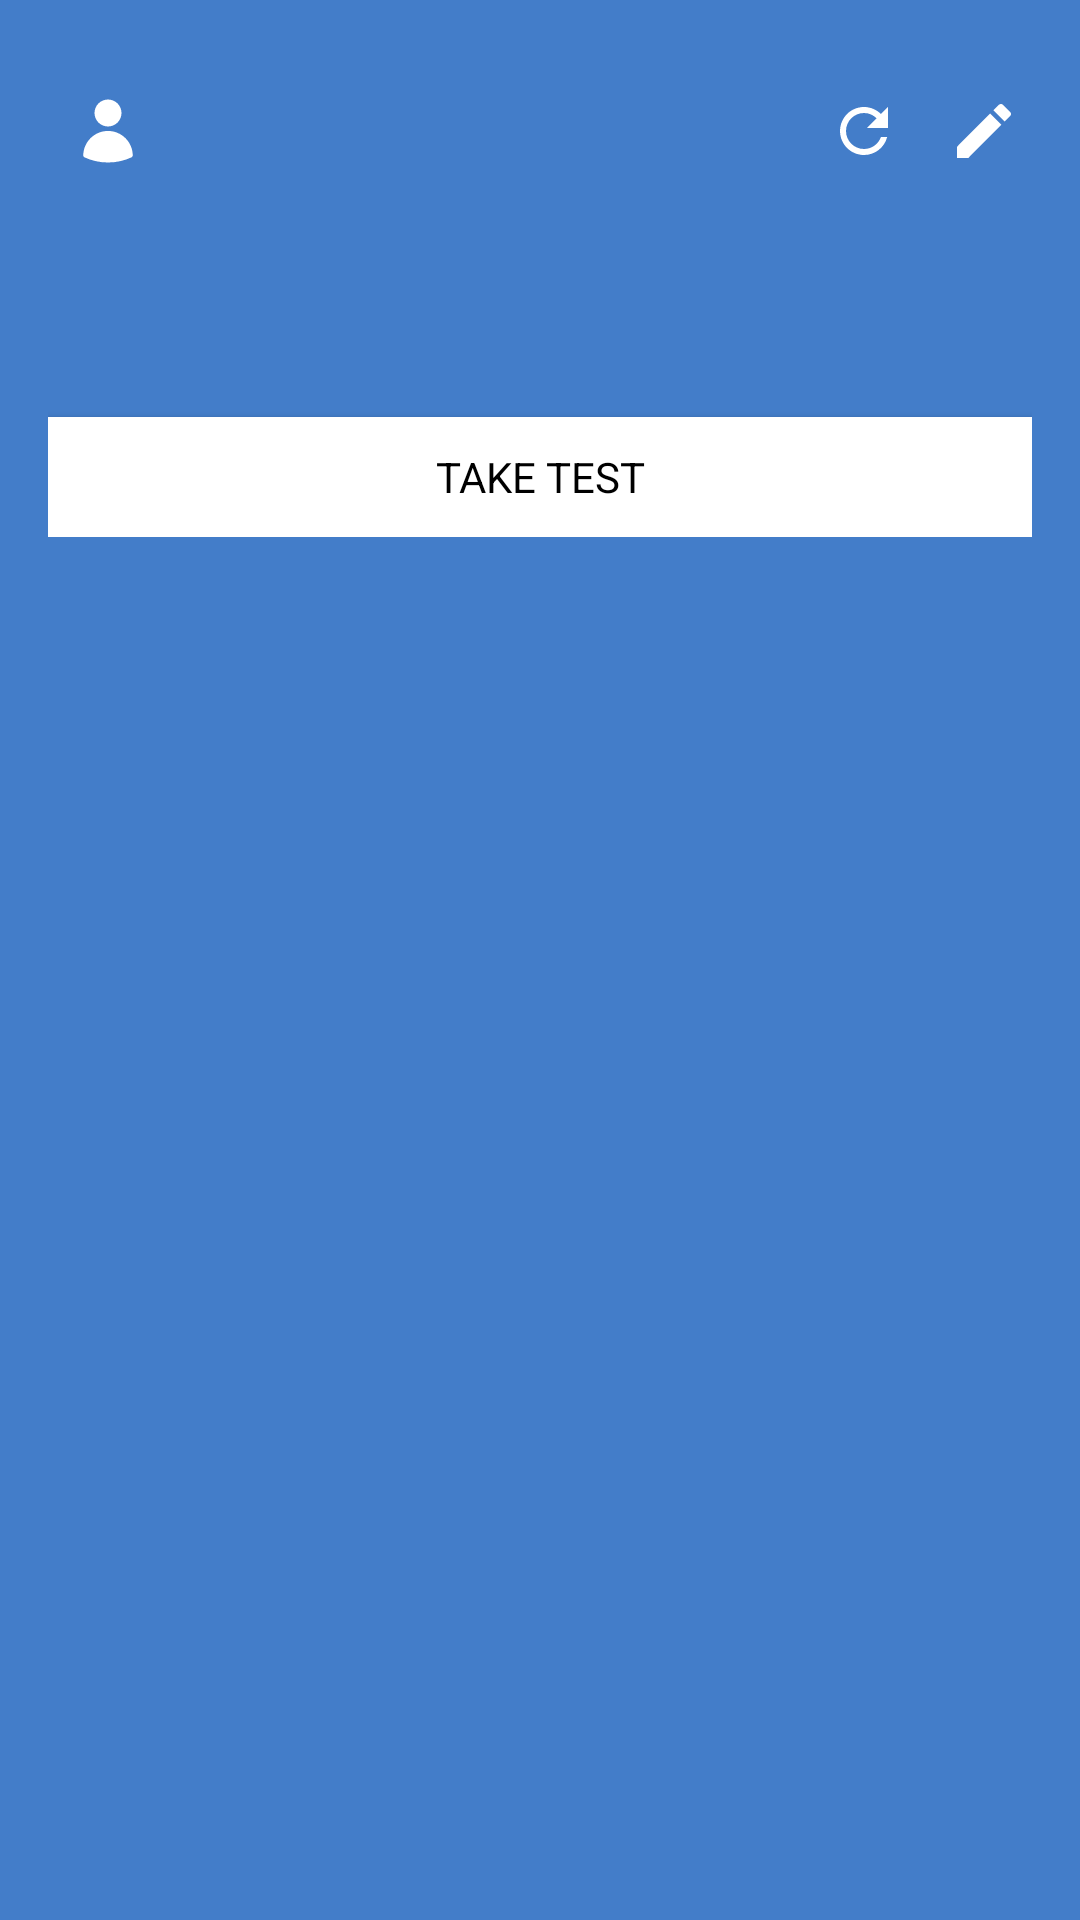

Where icons sit on this 1080px×1920px app screen, as (x1, y1, x2, y2):
edit: (957, 104, 1011, 158)
profile: (83, 99, 133, 163)
refresh: (840, 107, 888, 155)
